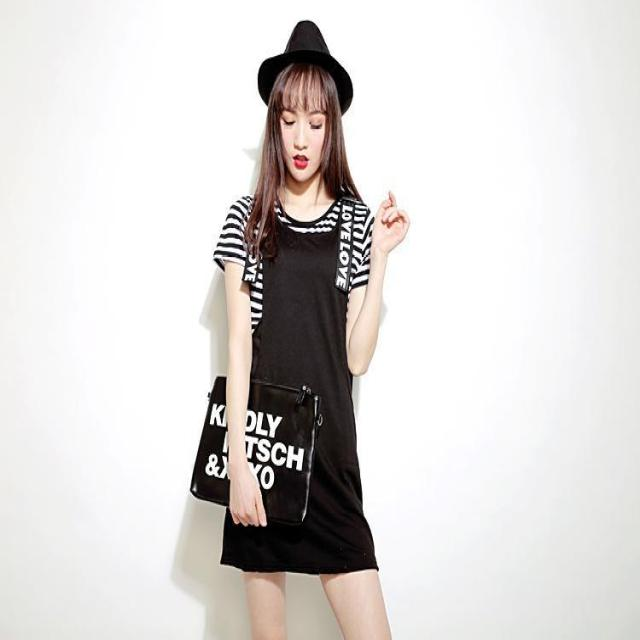short-sleeve-dress: (206, 171, 385, 587)
